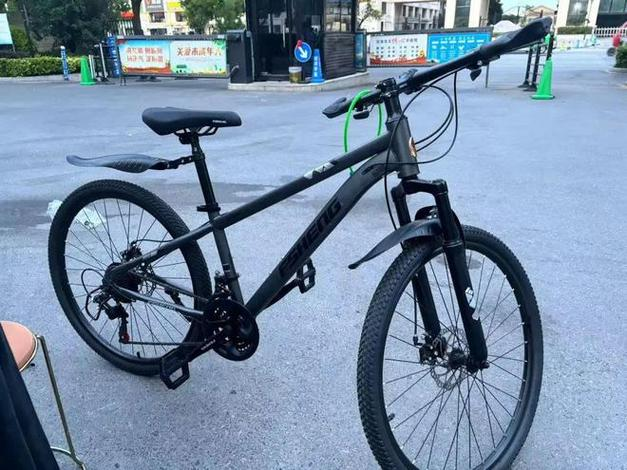单车: (34, 31, 596, 470)
